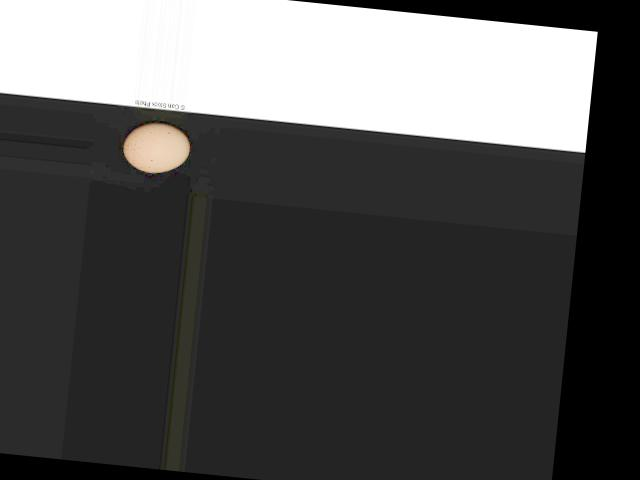egg: (121, 119, 191, 175)
